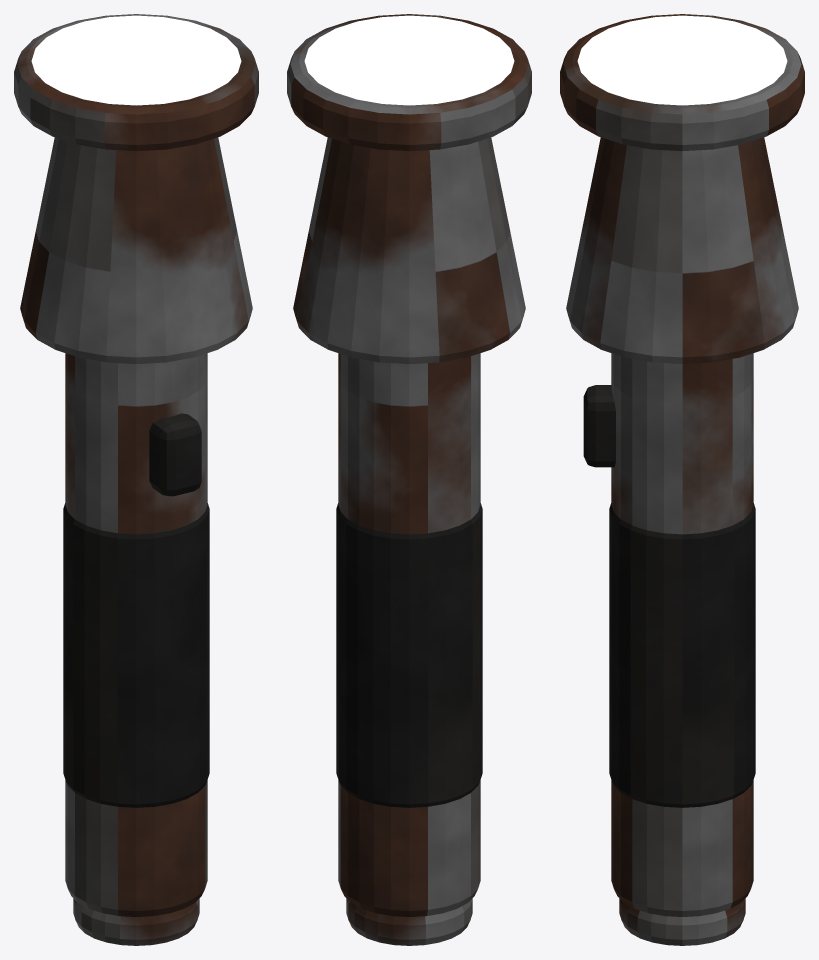
Rendered from G01_flashlight.glb.
3 views of the same model, side by side, from view 1: azimuth 30°, elevation 25°; view 2: azimuth 150°, elevation 25°; view 3: azimuth 270°, elevation 25° (orthographic).
Visible parts, largest first — view 1: G01_flashlight; view 2: G01_flashlight; view 3: G01_flashlight.
Boxes of the visible parts, bbox=[...] form: G01_flashlight: bbox=[14, 14, 258, 945]; G01_flashlight: bbox=[287, 14, 531, 945]; G01_flashlight: bbox=[560, 14, 804, 945].
Bounding box in the file's own units: 0.064 × 0.25 × 0.064.
Materials: 3 (3 with a texture image).
